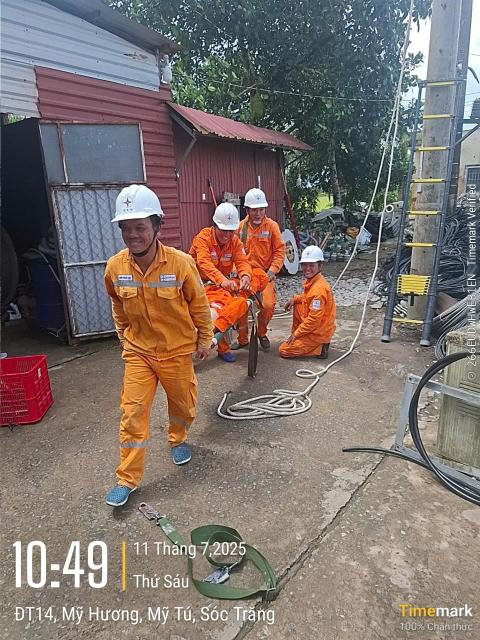helmet: (98, 177, 171, 226), (199, 195, 241, 235), (292, 242, 330, 273), (237, 184, 273, 212)
shoes: (102, 479, 161, 507), (169, 436, 195, 469), (214, 348, 237, 370), (315, 340, 333, 361), (254, 332, 273, 350)
